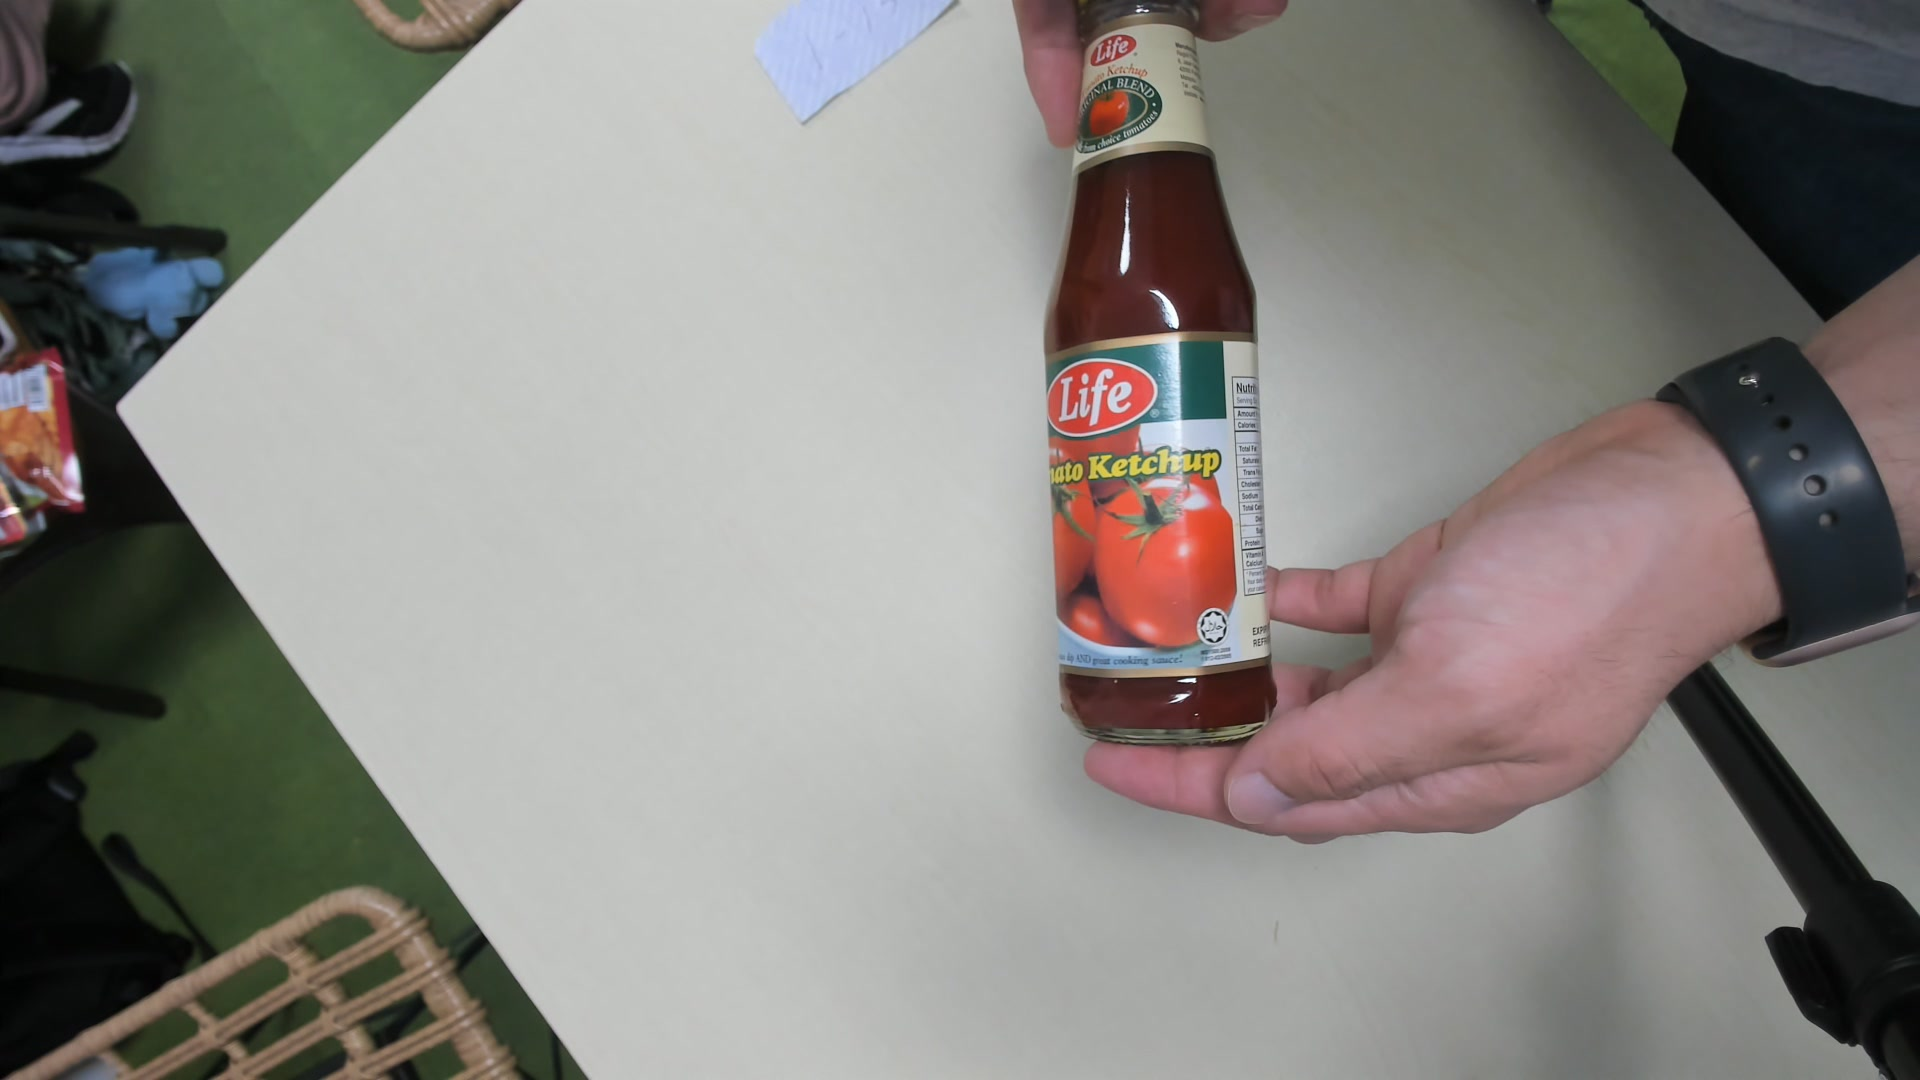KetchupChillSauce_300-399g_Halal_NonHealthy: (1036, 1, 1283, 749)
